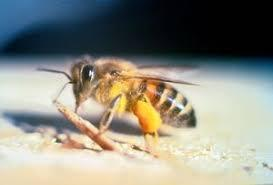Apis-mellifera-scutellata: (28, 47, 210, 143)
